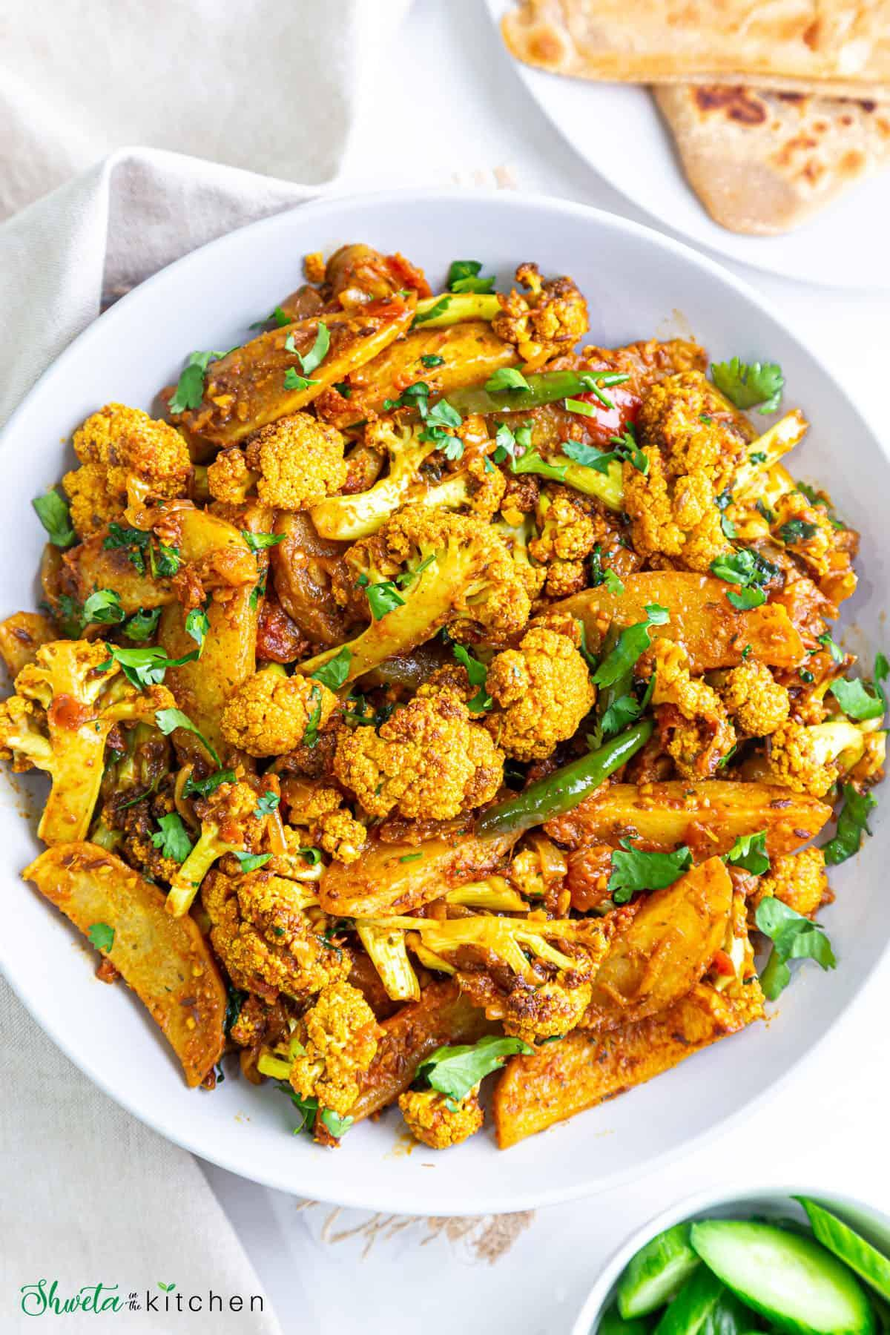aloo gobhi: (0, 276, 871, 1194)
roti phulka: (532, 0, 890, 235)
